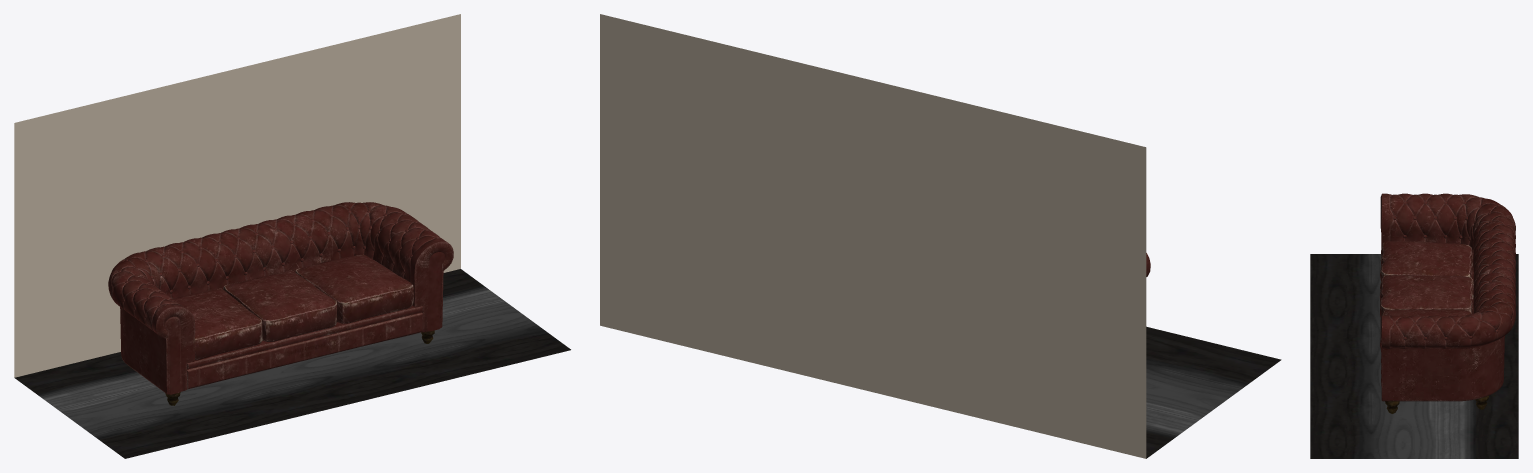
File: old_leather_sofa_model.glb
3 renders of one model, left to right at view 1: azimuth 30°, elevation 25°; view 2: azimuth 150°, elevation 25°; view 3: azimuth 270°, elevation 25°, orthographic. The views are drawn at different scales.
Visible parts, largest first — view 1: podlaha_low, gauc1_low, vankus2_low, vankus3_low, gauc3_low, vankus1_low, gauc4_low, gauc2_low, gombik_low; view 2: podlaha_low; view 3: podlaha_low, gauc1_low, vankus2_low, vankus1_low, vankus3_low, gombik_low, noha_low.
Part boxes in pixels (left/top/right/bottom): podlaha_low: left=14, top=14, right=570, bottom=458; gauc1_low: left=108, top=202, right=453, bottom=394; vankus2_low: left=223, top=270, right=337, bottom=341; vankus3_low: left=295, top=254, right=413, bottom=323; gauc3_low: left=187, top=312, right=422, bottom=389; vankus1_low: left=173, top=288, right=262, bottom=360; gauc4_low: left=164, top=252, right=444, bottom=394; gauc2_low: left=187, top=305, right=423, bottom=369; gombik_low: left=112, top=206, right=438, bottom=318; podlaha_low: left=600, top=14, right=1281, bottom=458; podlaha_low: left=1310, top=254, right=1518, bottom=458; gauc1_low: left=1380, top=193, right=1515, bottom=401; vankus2_low: left=1379, top=275, right=1473, bottom=318; vankus1_low: left=1380, top=241, right=1473, bottom=281; vankus3_low: left=1380, top=309, right=1471, bottom=351; gombik_low: left=1393, top=195, right=1512, bottom=340; noha_low: left=1385, top=396, right=1488, bottom=413.
Size of the model in its own units: 2 by 1.09 by 0.8597.
Materials: 2 (2 with a texture image).
